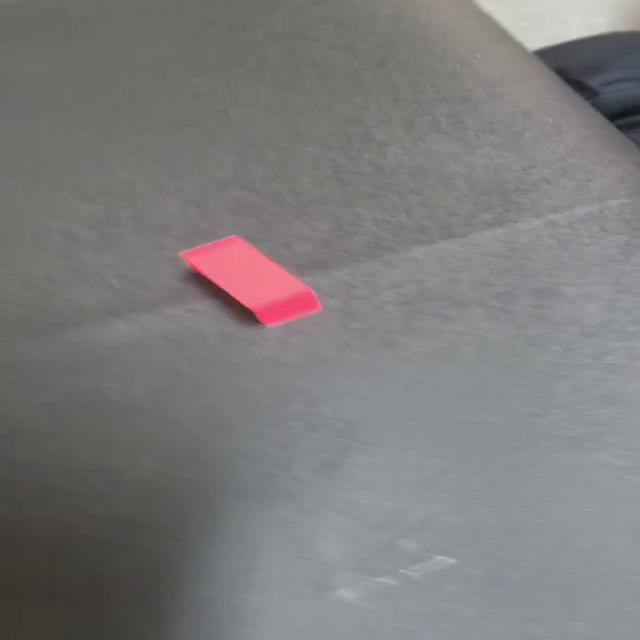red block: (176, 234, 321, 327)
